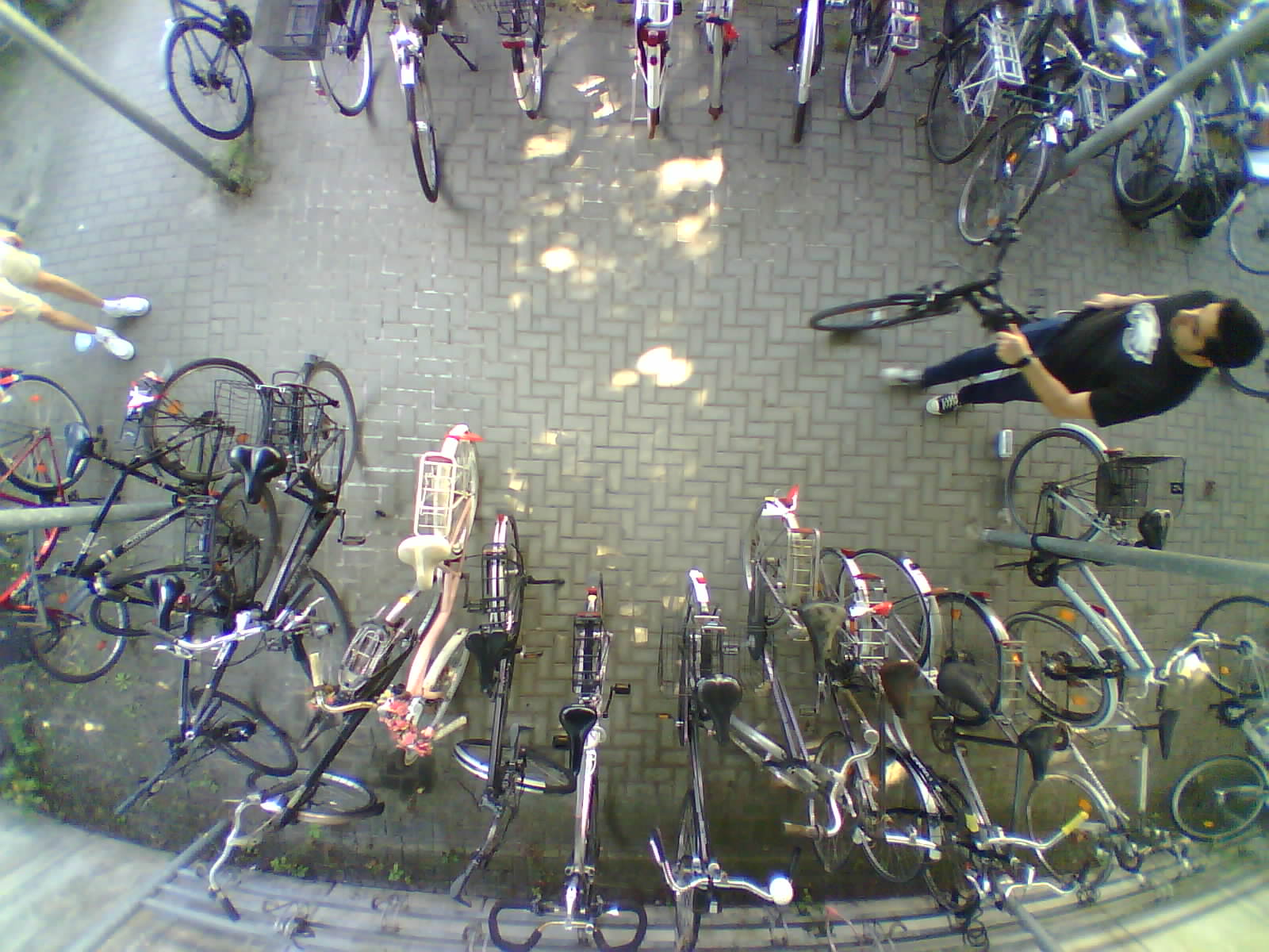bicylce: (244, 578, 450, 830), (93, 351, 277, 630), (1010, 433, 1168, 736), (379, 421, 501, 768), (0, 361, 128, 687), (158, 476, 290, 788), (643, 563, 740, 952), (541, 578, 638, 952), (1015, 591, 1127, 905), (962, 0, 1099, 254), (734, 482, 833, 819), (275, 353, 369, 675), (927, 594, 1012, 932), (457, 503, 549, 796), (868, 551, 948, 882), (803, 536, 883, 822)
saddle: (222, 439, 289, 509), (800, 591, 851, 677), (1013, 712, 1063, 792), (932, 656, 998, 714), (140, 570, 192, 643), (696, 669, 744, 747), (466, 626, 515, 702), (398, 526, 448, 597), (1101, 5, 1159, 65), (554, 697, 594, 781), (876, 655, 920, 726), (296, 699, 344, 750), (61, 420, 98, 483), (1137, 511, 1179, 557), (1159, 704, 1179, 757)
